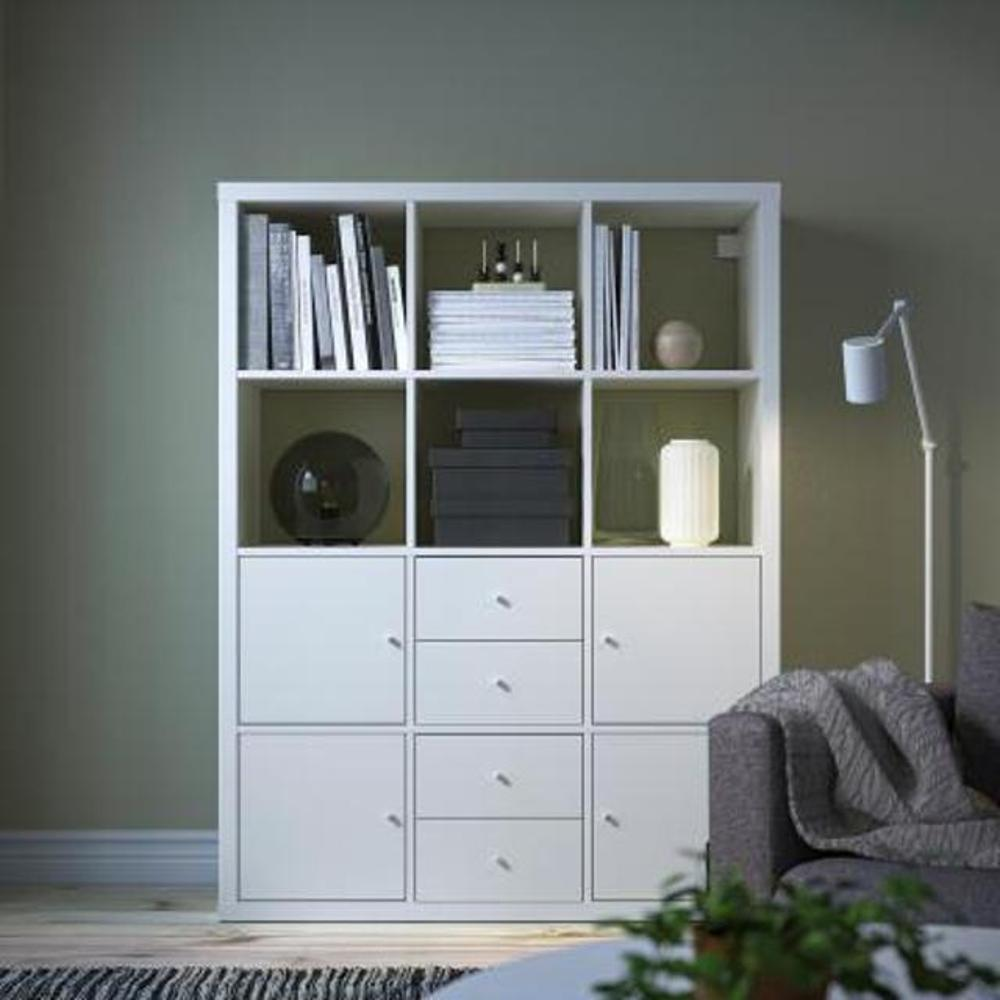lamp: (216, 178, 784, 934)
